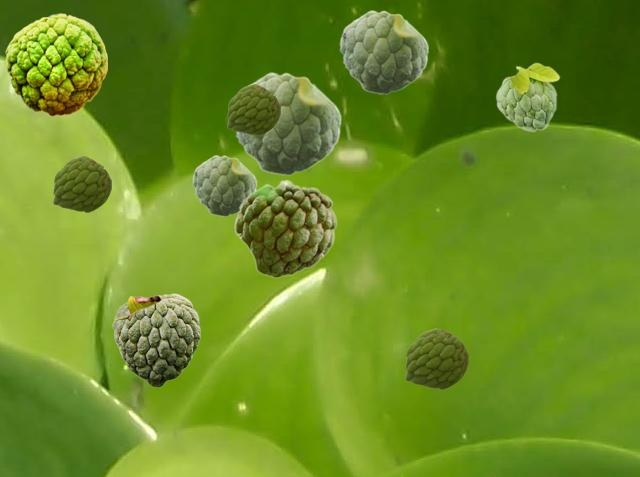atis: (233, 72, 341, 174), (5, 13, 106, 115), (233, 179, 336, 277), (112, 293, 199, 386), (339, 10, 428, 93), (495, 62, 559, 131), (192, 155, 256, 215), (405, 328, 467, 388), (53, 156, 110, 211), (227, 84, 279, 134)
